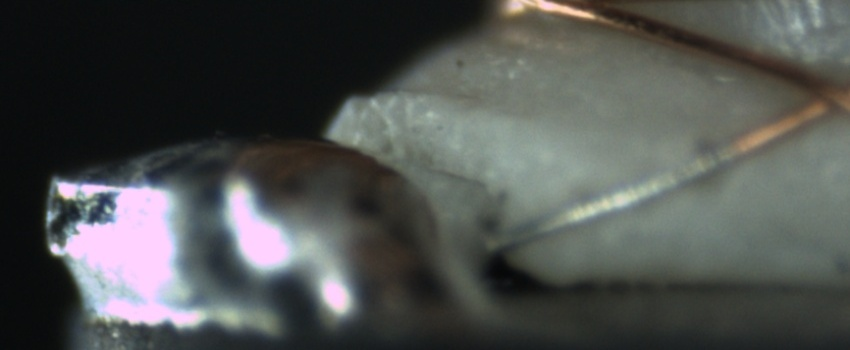CL: (781, 63, 846, 130)
TS: (484, 141, 734, 254)
